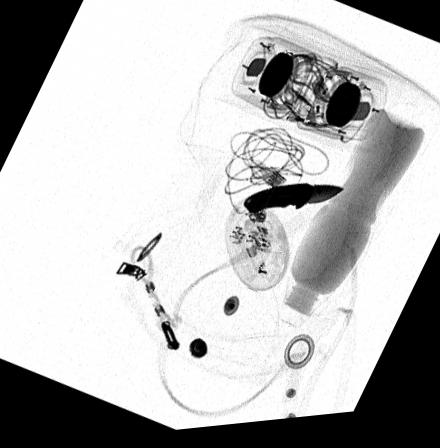Knife: (240, 189, 344, 220)
